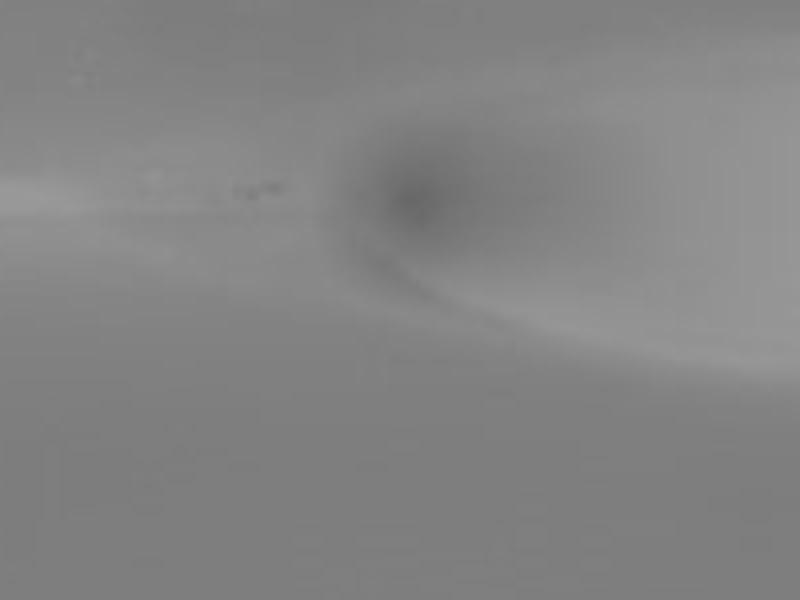defect: (374, 172, 464, 250), (242, 184, 258, 200), (265, 182, 280, 197)
